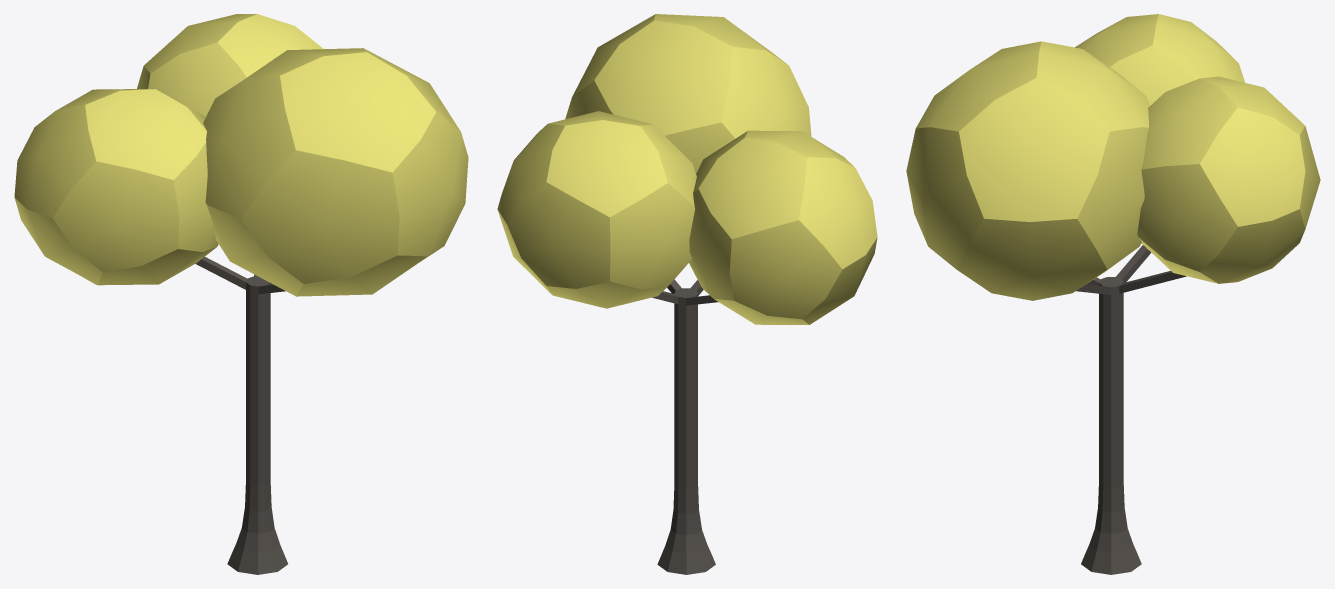
File: tree_1.fbx
3 views of the same model, side by side, from view 1: azimuth 30°, elevation 25°; view 2: azimuth 150°, elevation 25°; view 3: azimuth 270°, elevation 25° (orthographic). The views are drawn at different scales.
Parts seen in each view (by area): view 1: polySurface8, polySurface7, polySurface5, polySurface6; view 2: polySurface5, polySurface7, polySurface8, polySurface6; view 3: polySurface8, polySurface5, polySurface6, polySurface7.
Part boxes in pixels (bbox=[...]): polySurface8: bbox=[203, 48, 468, 296]; polySurface7: bbox=[14, 88, 218, 285]; polySurface5: bbox=[137, 14, 323, 116]; polySurface6: bbox=[195, 257, 287, 574]; polySurface5: bbox=[497, 111, 696, 308]; polySurface7: bbox=[689, 130, 877, 324]; polySurface8: bbox=[565, 14, 811, 173]; polySurface6: bbox=[652, 279, 718, 574]; polySurface8: bbox=[906, 41, 1150, 300]; polySurface5: bbox=[1137, 76, 1320, 283]; polySurface6: bbox=[1076, 245, 1186, 574]; polySurface7: bbox=[1075, 14, 1245, 105].
Size of the model in its own units: 4.11 by 5.7 by 4.08.
